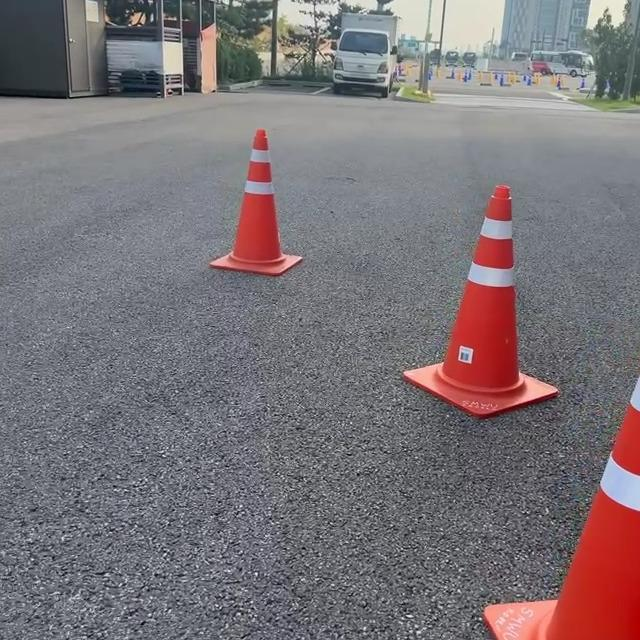fallen_object: (363, 83, 504, 429), (547, 300, 640, 640), (235, 135, 320, 273)
